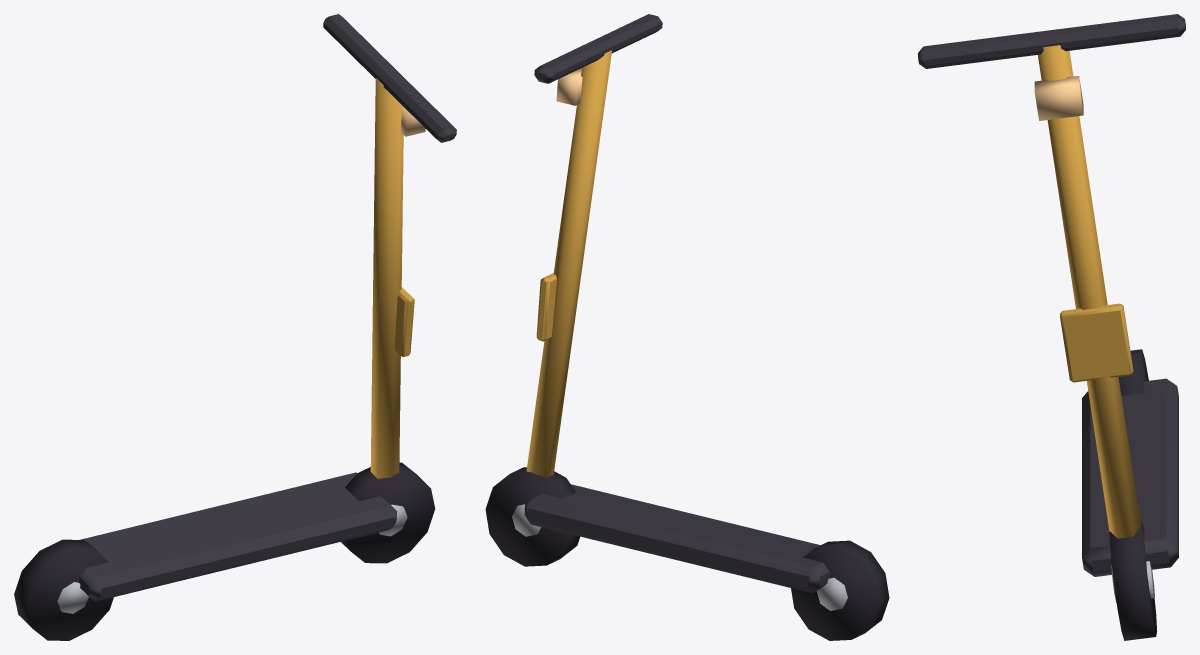
The model's file is era_hire_scooter.glb.
3 renders of one model, left to right at view 1: azimuth 30°, elevation 25°; view 2: azimuth 150°, elevation 25°; view 3: azimuth 270°, elevation 25°, orthographic. The views are drawn at different scales.
Parts seen in each view (by area): view 1: era_hire_scooter; view 2: era_hire_scooter; view 3: era_hire_scooter.
Boxes of the visible parts, <box> form: era_hire_scooter: <box>14,14,456,640</box>; era_hire_scooter: <box>485,14,889,640</box>; era_hire_scooter: <box>918,14,1185,640</box>.
Bounding box in the file's own units: 0.82 × 1.04 × 0.4173.
